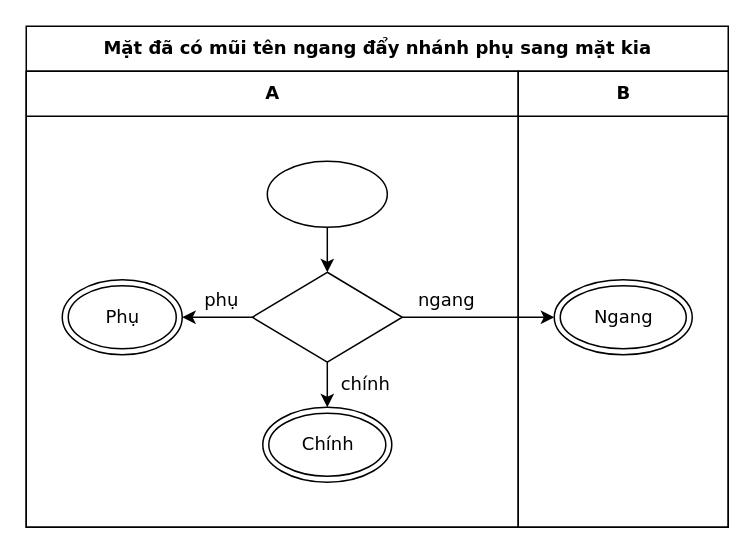
This 755x554 diagram has some shape labels left out. The shapes that lost their labels are listed below. From the top down, each one's centre as x and y in pixels, then its label:
pixel 326 193: Vào
pixel 326 316: Rẽ?
